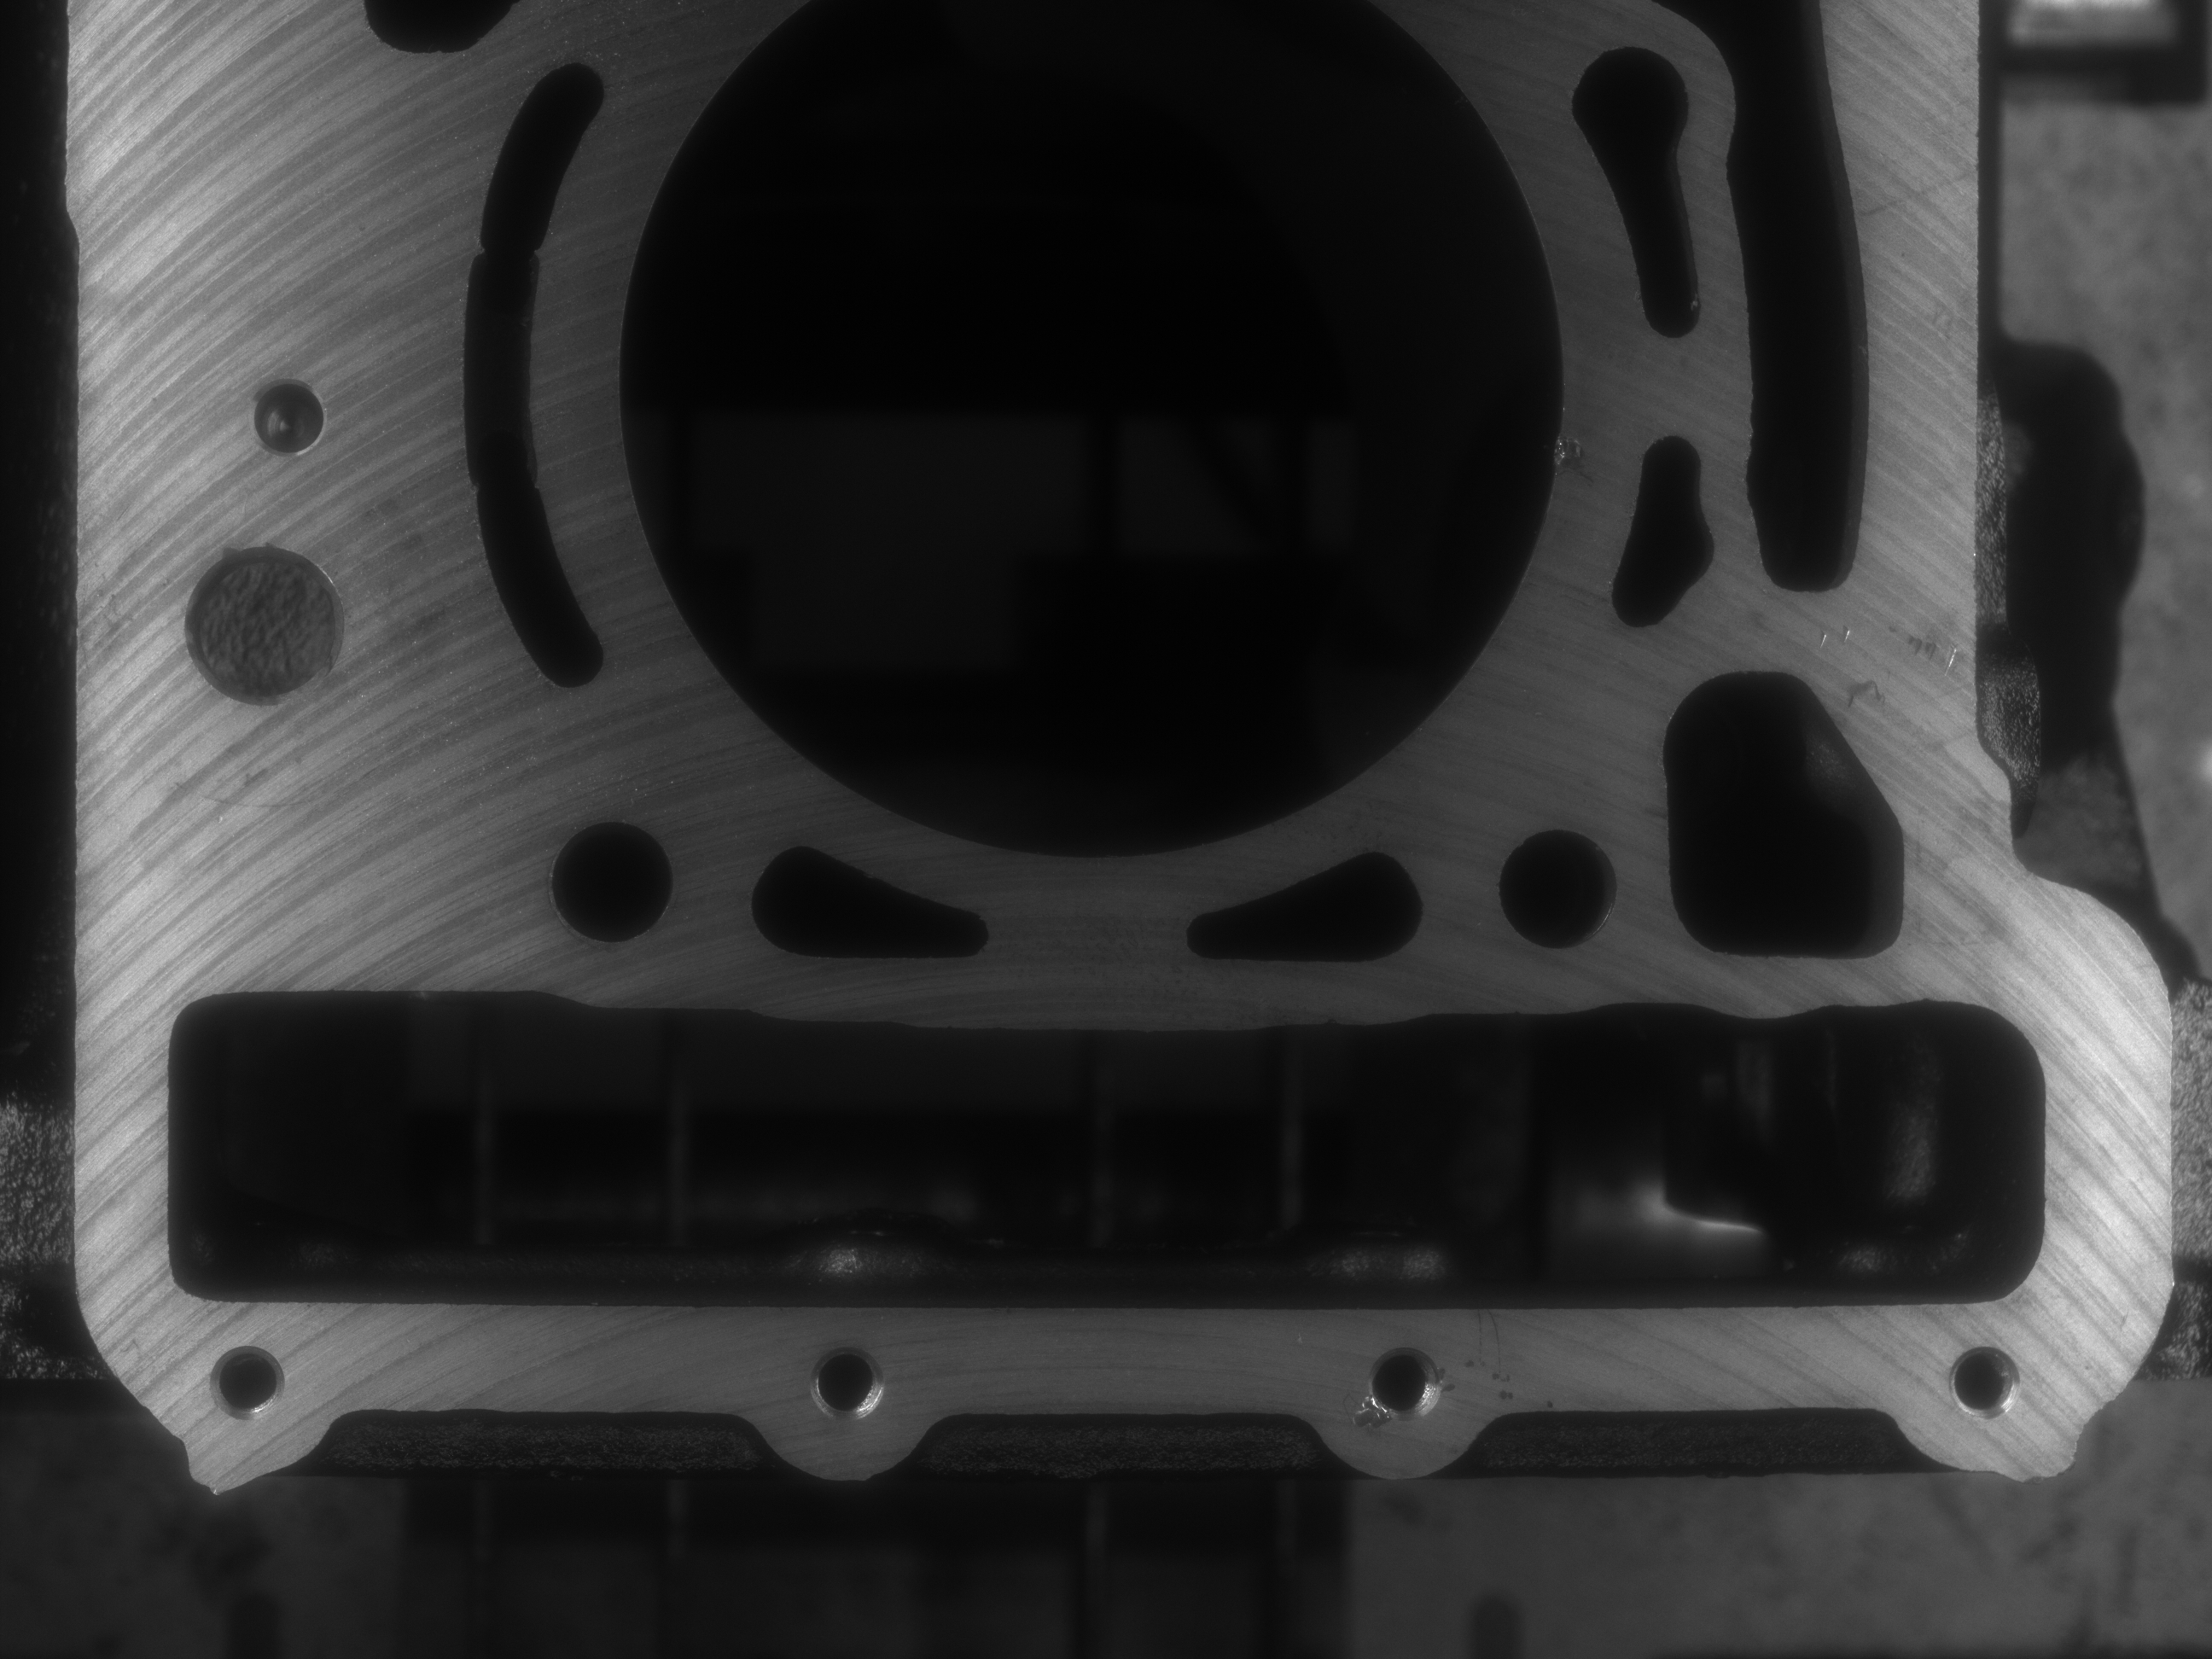shrinkage: (1346, 1391, 1392, 1436), (1552, 422, 1587, 474)
